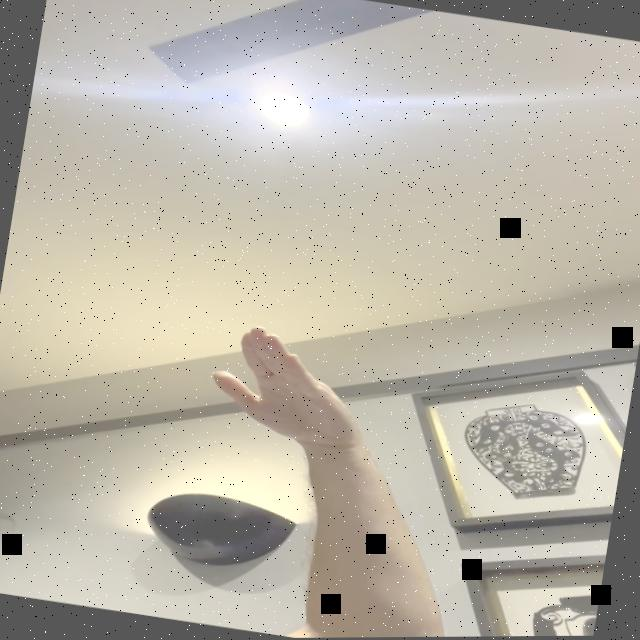Paper: (200, 318, 380, 452)
